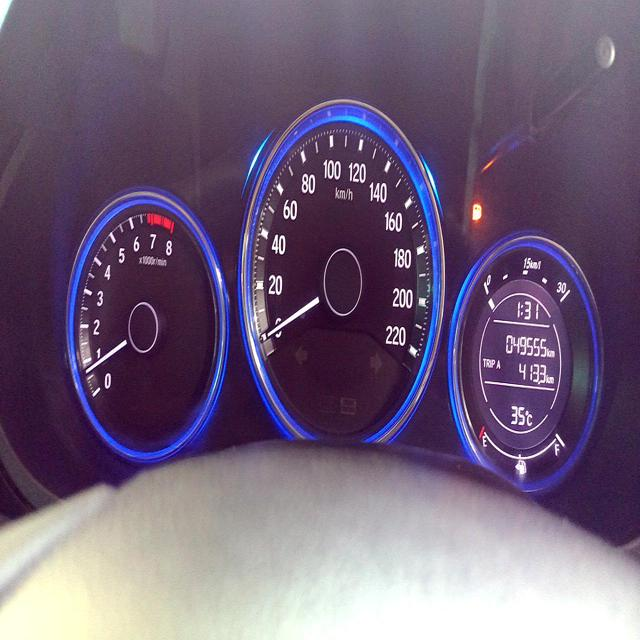odometer: (504, 329, 547, 358)
